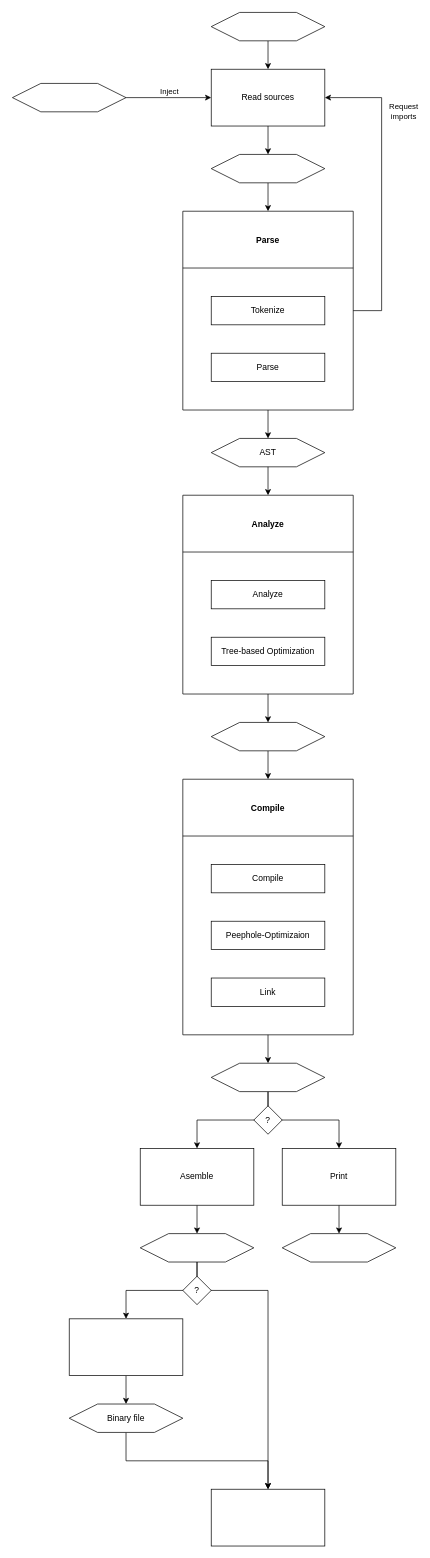
Image size: 430x1558. Some labels were removed from this diagram. Each missing label, with the box of its shape:
Assembly text file: (282, 1233, 396, 1262)
Bytecode: (140, 1233, 254, 1262)
Execute in VM: (211, 1489, 325, 1546)
Inst-Format: (211, 1063, 325, 1092)
Output: (69, 1318, 183, 1376)
Source Files: (211, 12, 325, 41)
Sources: (211, 154, 325, 183)
SST: (211, 722, 325, 751)
Stdlib: (12, 83, 126, 112)
